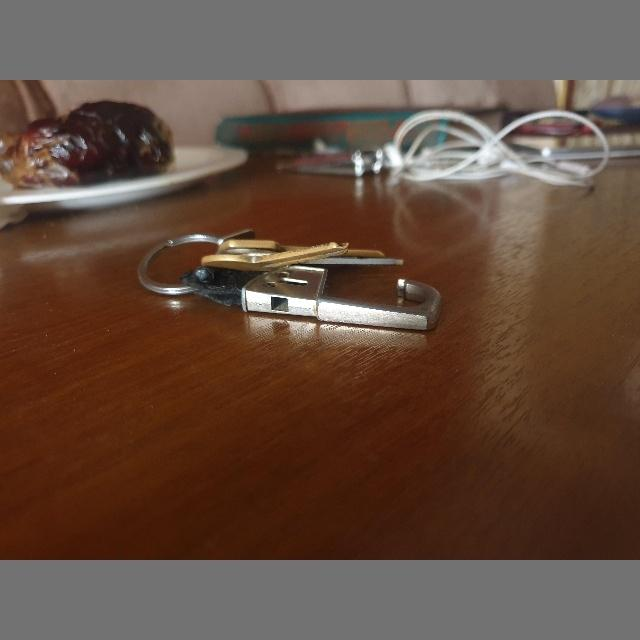Keys: (129, 216, 447, 340)
